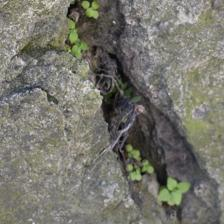Crack: (33, 5, 170, 182)
